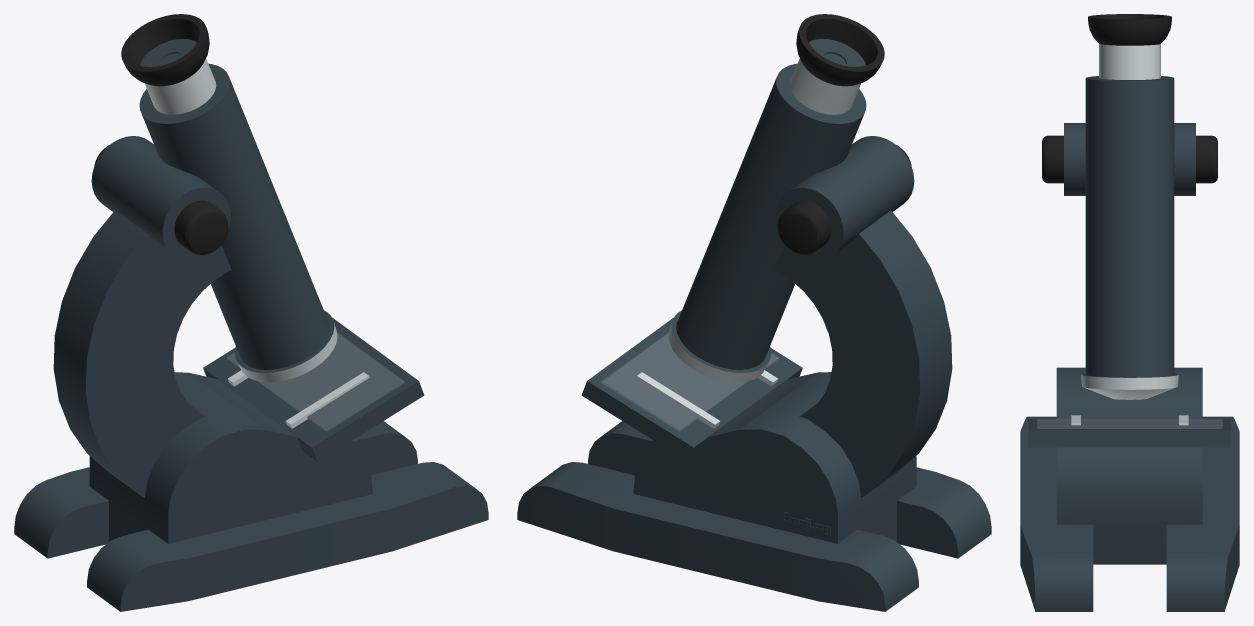
File: microscope.glb
3 views of the same model, side by side, from view 1: azimuth 30°, elevation 25°; view 2: azimuth 150°, elevation 25°; view 3: azimuth 270°, elevation 25° (orthographic). The views are drawn at different scales.
Parts seen in each view (by area): view 1: Cube.1004; view 2: Cube.1004; view 3: Cube.1004.
Part boxes in pixels (x1,y1,x2,y2): Cube.1004: [14, 14, 488, 611]; Cube.1004: [517, 14, 991, 611]; Cube.1004: [1020, 14, 1239, 611].
Bounding box in the file's own units: 1.69 × 2.31 × 0.9331.
2 materials, 1 textured.
